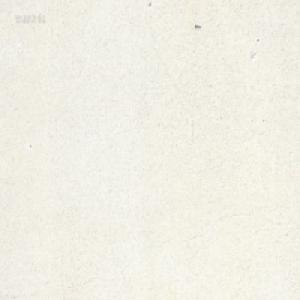Nail: (194, 23, 201, 29)
